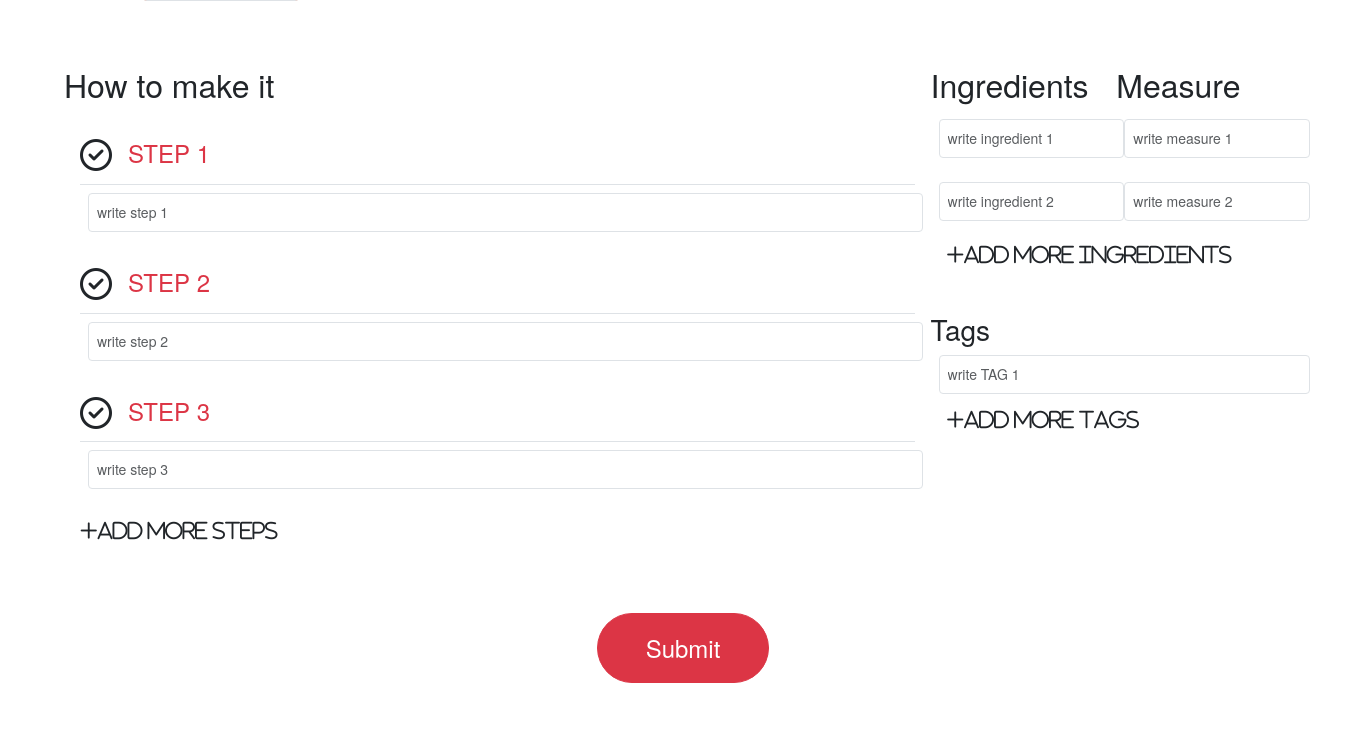
Composant CreateRecipe › ajoute une étape supplémentaire lors du clic sur le bouton 'plus'
The width and height of the screenshot is (1366, 731).
(page scrolled)
Expected: the number of fields with placeholder "write step 1" is 3, [88, 193, 923, 232]; [88, 322, 923, 361]; [88, 450, 923, 489]
Click the text "Add more steps": (188, 531) [98, 520, 278, 541]
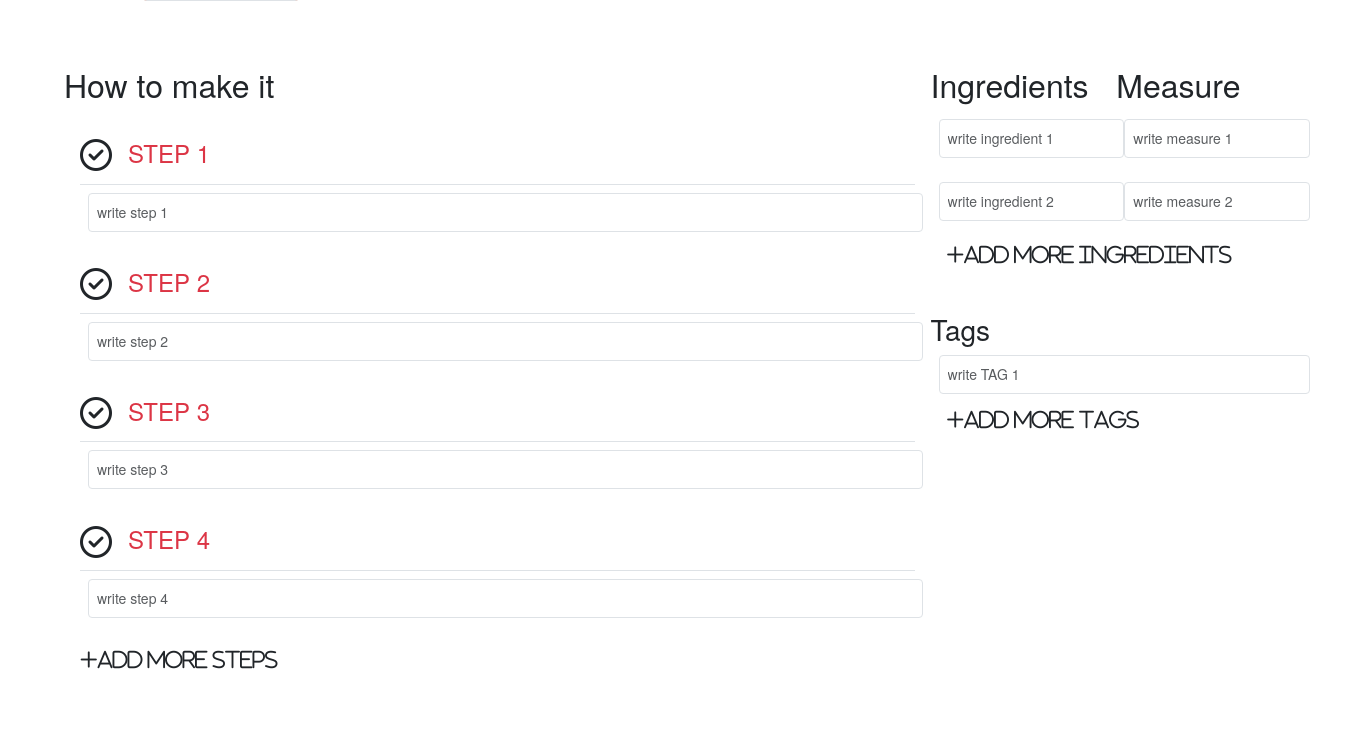
Now the number of fields with placeholder "write step 1" is 4, box [88, 193, 923, 232]; [88, 322, 923, 361]; [88, 450, 923, 489]; [88, 579, 923, 618]
